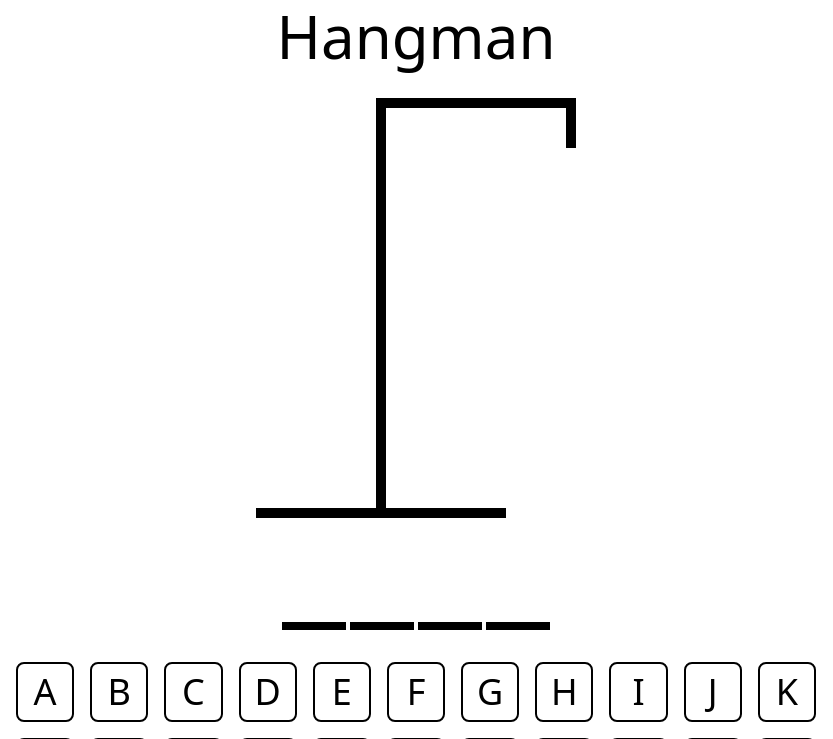
Hangman Tests › should show the head if user types one wrong letter
Click the button "k": x=787, y=692 [758,662,816,722]
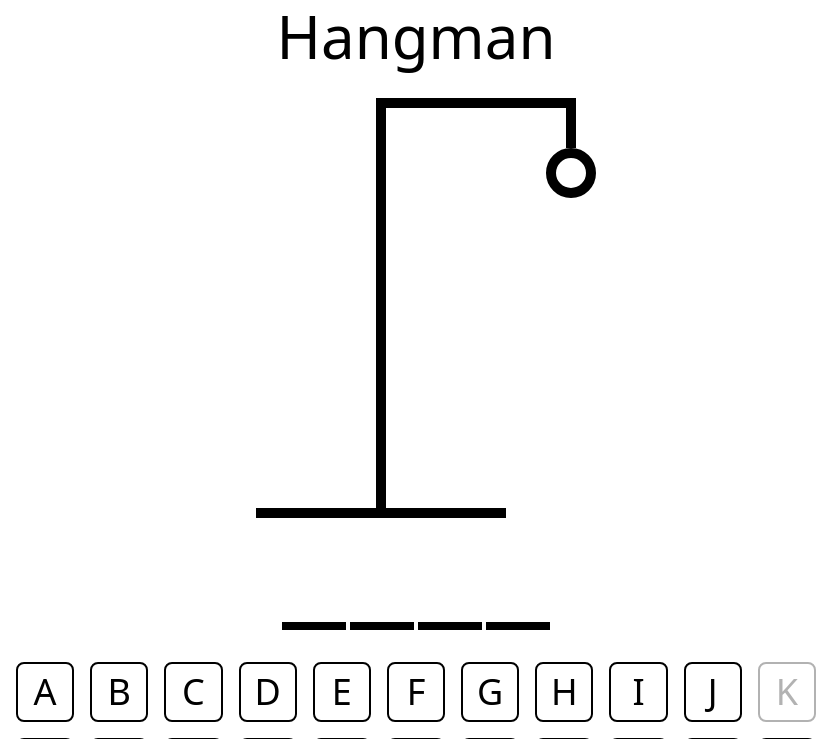
Expected: the element with test id "head" is shown, [546,148,596,198]
